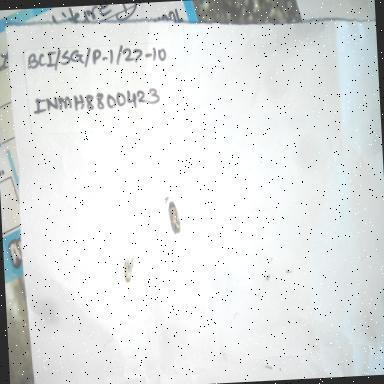pbw: (158, 188, 190, 241), (114, 248, 140, 290)
